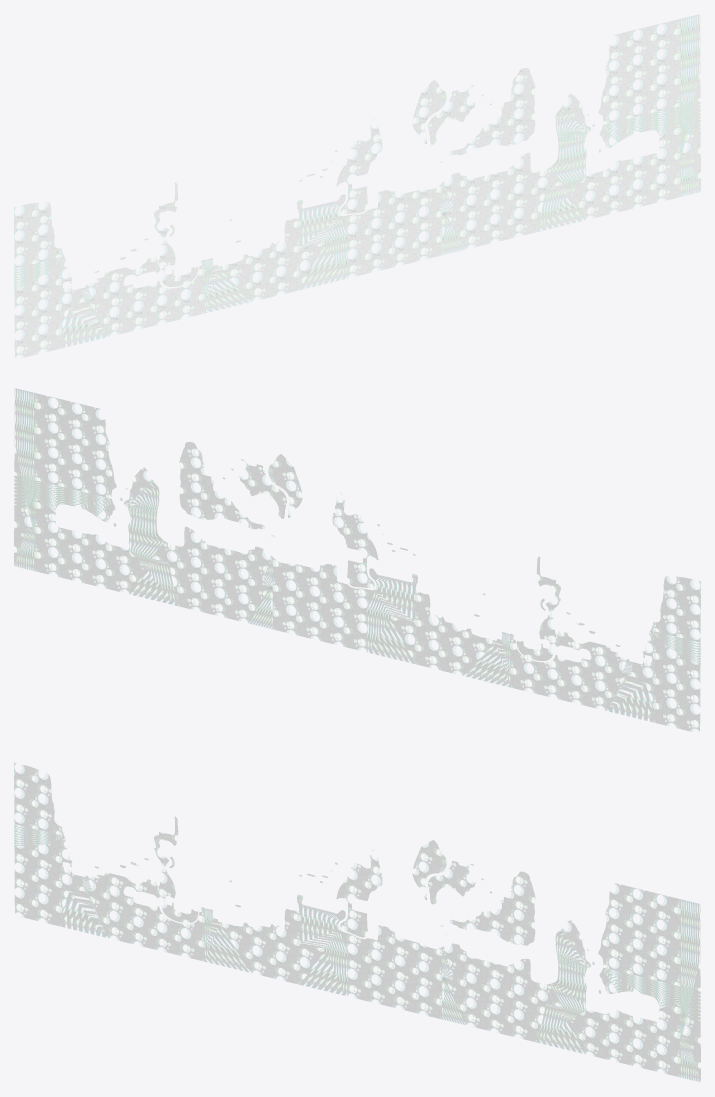
The model's file is flower03.glb.
3 views of the same model, one above another, from view 1: azimuth 30°, elevation 25°; view 2: azimuth 150°, elevation 25°; view 3: azimuth 330°, elevation 25° (orthographic).
Visible parts, largest first — view 1: flower03; view 2: flower03; view 3: flower03.
Boxes of the visible parts, left/top/right/bottom form: flower03: left=14, top=14, right=700, bottom=357; flower03: left=14, top=388, right=700, bottom=731; flower03: left=14, top=762, right=700, bottom=1081.
Size of the model in its own units: 5777 by 1438 by 1.
Materials: 1 (1 with a texture image).
